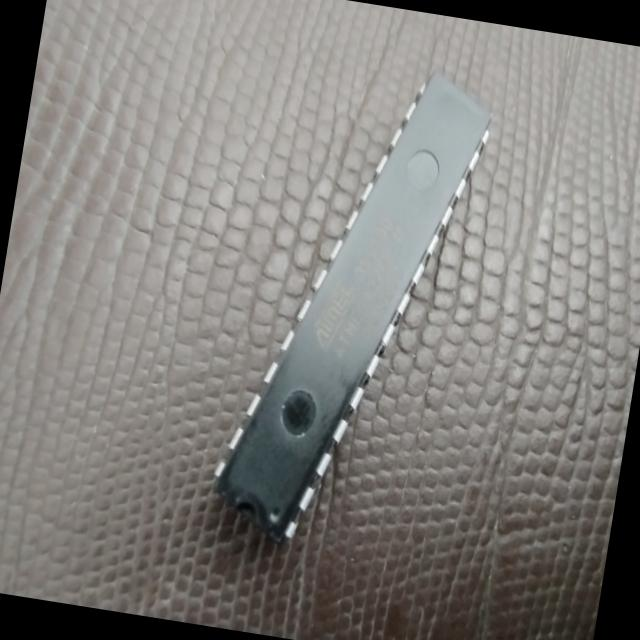atmega: (202, 42, 500, 568)
